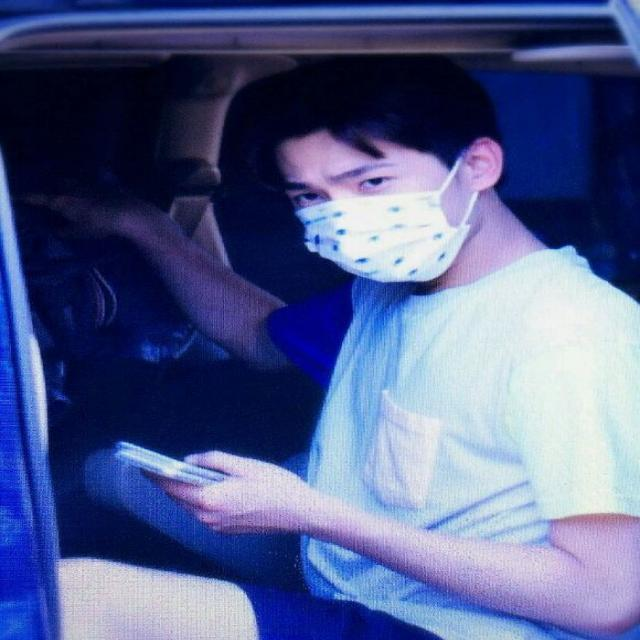mask: (291, 119, 464, 280)
